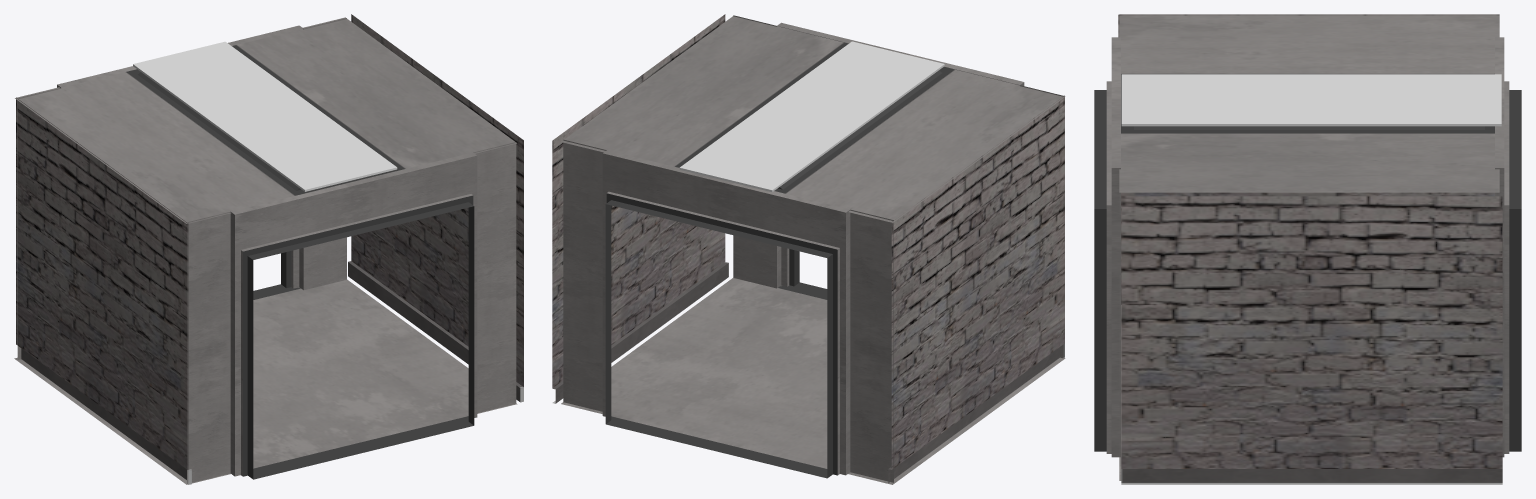
Rendered from hallway_corner34.fbx.
The picture shows the model from 3 angles, left to right: view 1: azimuth 30°, elevation 25°; view 2: azimuth 150°, elevation 25°; view 3: azimuth 270°, elevation 25°; orthographic projection. The views are drawn at different scales.
Visible parts, largest first — view 1: wall_door_frame016, wall008, corner24, floor005, light005, wall006, wall_door_frame015; view 2: wall008, wall_door_frame015, corner24, floor005, wall006, light005, wall_door_frame016; view 3: wall006, corner24, light005, wall_door_frame016, wall_door_frame015, wall008.
Boxes of the visible parts, box(x1,y1,x2,y2) form: wall_door_frame016: box(187, 142, 516, 483); wall008: box(16, 97, 191, 484); corner24: box(15, 17, 516, 223); floor005: box(14, 279, 517, 484); light005: box(133, 41, 397, 191); wall006: box(348, 14, 523, 402); wall_door_frame015: box(17, 18, 346, 359); wall008: box(888, 95, 1064, 482); wall_door_frame015: box(563, 139, 893, 482); corner24: box(561, 16, 1065, 222); floor005: box(561, 278, 1065, 484); wall006: box(552, 14, 728, 403); light005: box(679, 41, 944, 192); wall_door_frame016: box(733, 15, 1063, 358); wall006: box(1121, 196, 1502, 484); corner24: box(1119, 14, 1499, 192); light005: box(1121, 74, 1501, 126); wall_door_frame016: box(1094, 37, 1120, 457); wall_door_frame015: box(1495, 37, 1521, 457); wall008: box(1118, 14, 1499, 304).
Bounding box in the file's own units: 32.48 × 24.32 × 32.16.
